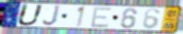1: (76, 6, 88, 29)
6: (142, 8, 161, 30), (120, 7, 138, 29)
E: (90, 7, 113, 29)
J: (41, 5, 61, 27)
U: (15, 3, 45, 27)
